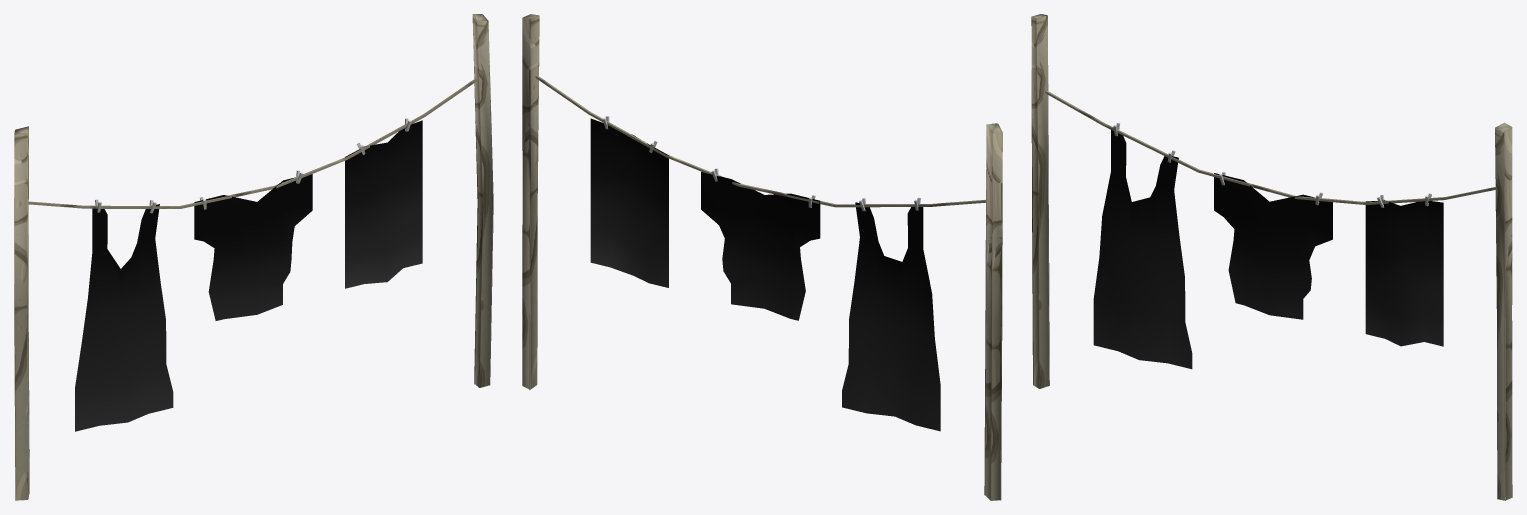
Rendered from Cloth_line.FBX.
3 views of the same model, side by side, from view 1: azimuth 30°, elevation 25°; view 2: azimuth 150°, elevation 25°; view 3: azimuth 330°, elevation 25° (orthographic).
Parts seen in each view (by area): view 1: cloth line; view 2: cloth line; view 3: cloth line.
Boxes of the visible parts, x1,y1,x2,y2 form: cloth line: (14,14,493,500); cloth line: (522,14,1002,500); cloth line: (1031,14,1512,500).
Size of the model in its own units: 3.31 by 2.47 by 0.1228.
